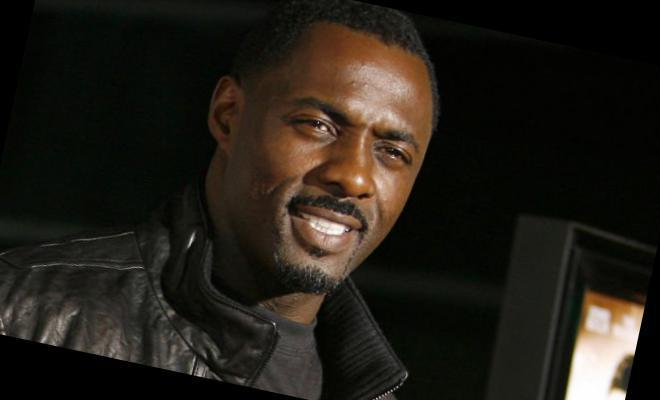Sober: (251, 46, 412, 268)
